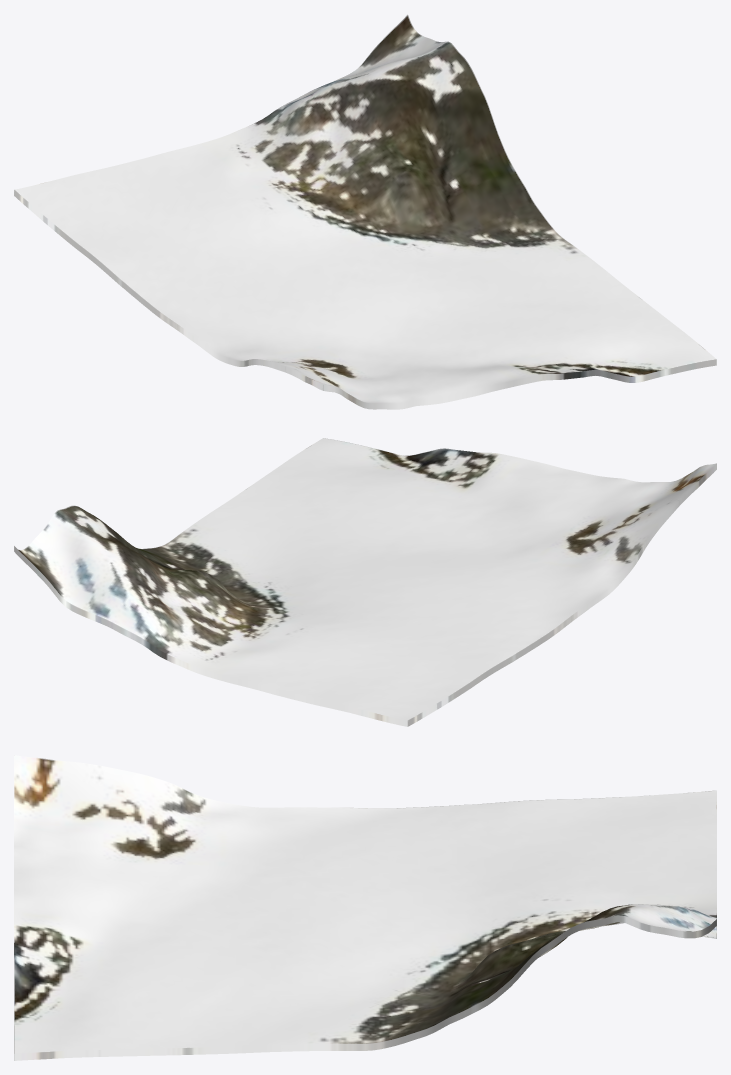
3 renders of one model, top to bottom at view 1: azimuth 30°, elevation 25°; view 2: azimuth 150°, elevation 25°; view 3: azimuth 270°, elevation 25°, orthographic. The views are drawn at different scales.
Parts seen in each view (by area): view 1: tile; view 2: tile; view 3: tile.
Part boxes in pixels (x1,y1,x2,y2): tile: [14, 14, 716, 409]; tile: [14, 438, 716, 726]; tile: [14, 755, 716, 1060].
Bounding box in the file's own units: 2025 × 629 × 2752.
1 material, 1 textured.
